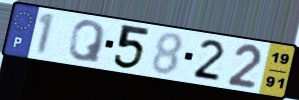1: (35, 12, 57, 57)
2: (227, 42, 265, 91), (192, 39, 228, 84)
5: (112, 23, 154, 72)
8: (150, 31, 186, 77)
Q: (66, 19, 108, 65)
